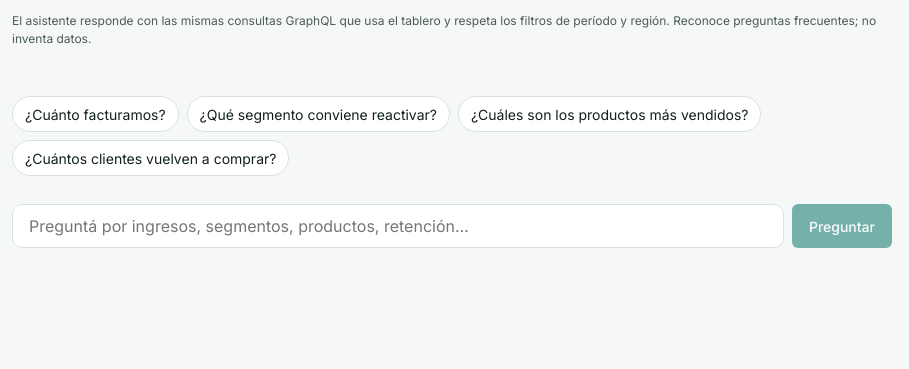
Test: Asistente › muestra un mensaje claro si la API falla
Click the button "¿Cuánto facturamos?". click: coordinates (95, 114)
box: [12,96,179,132]
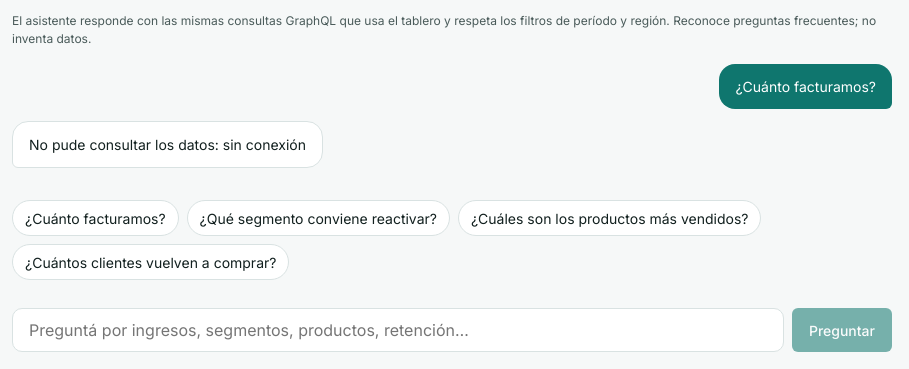
Expected: the text "No pude consultar los datos: sin conexión" is shown, [29,134,306,155]
